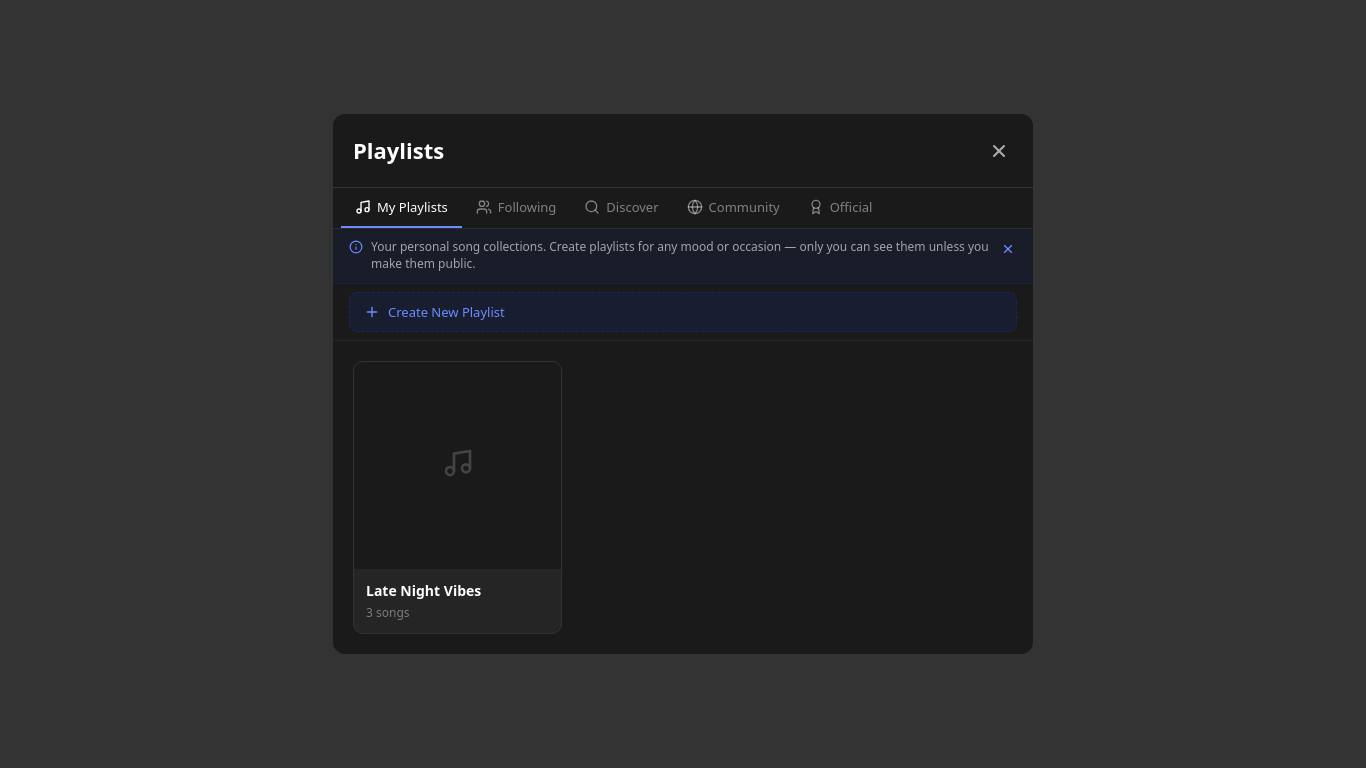
it: PlaylistManager › searches playlists from public tabs and displays the results
Click the button "Discover" at (621, 208), box [570, 188, 672, 228]
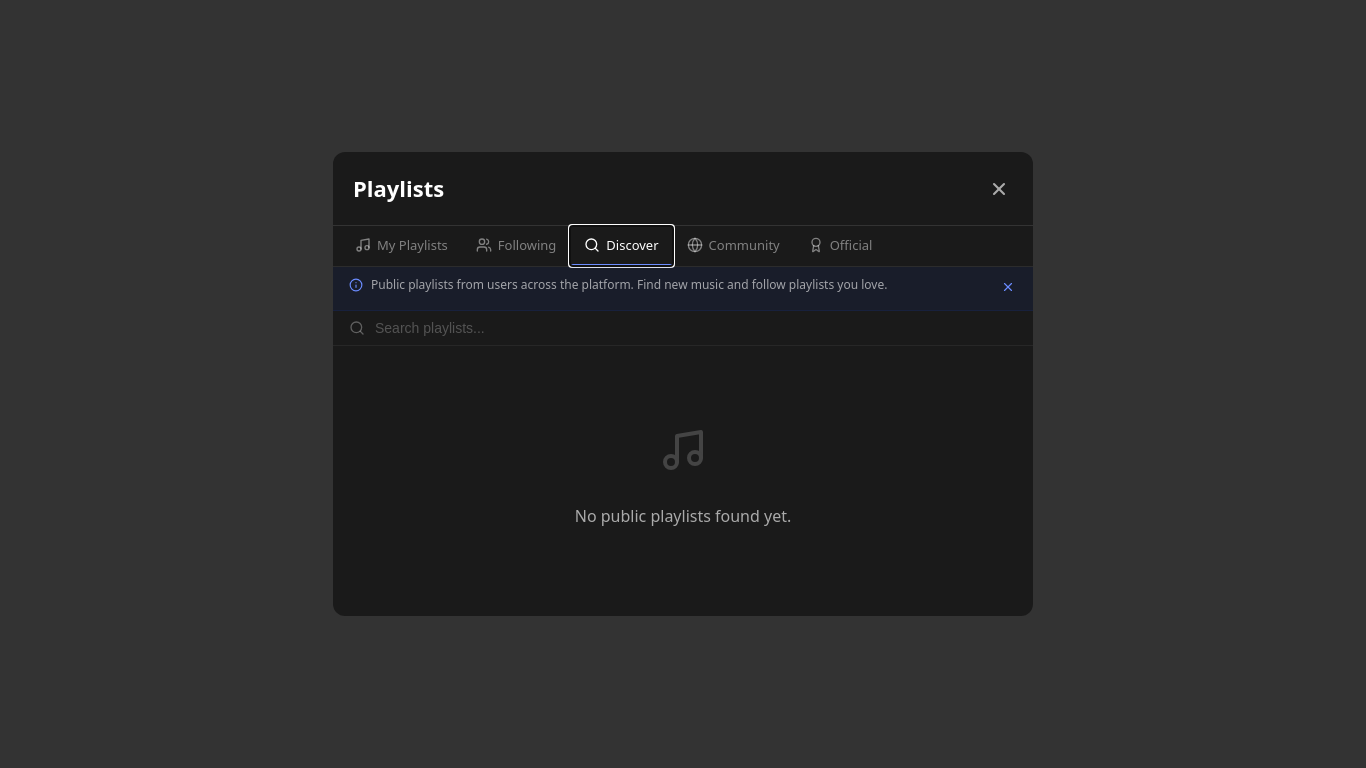
Type "jazz" into the field with placeholder "Search playlists..." at (695, 328), box [373, 319, 1017, 337]
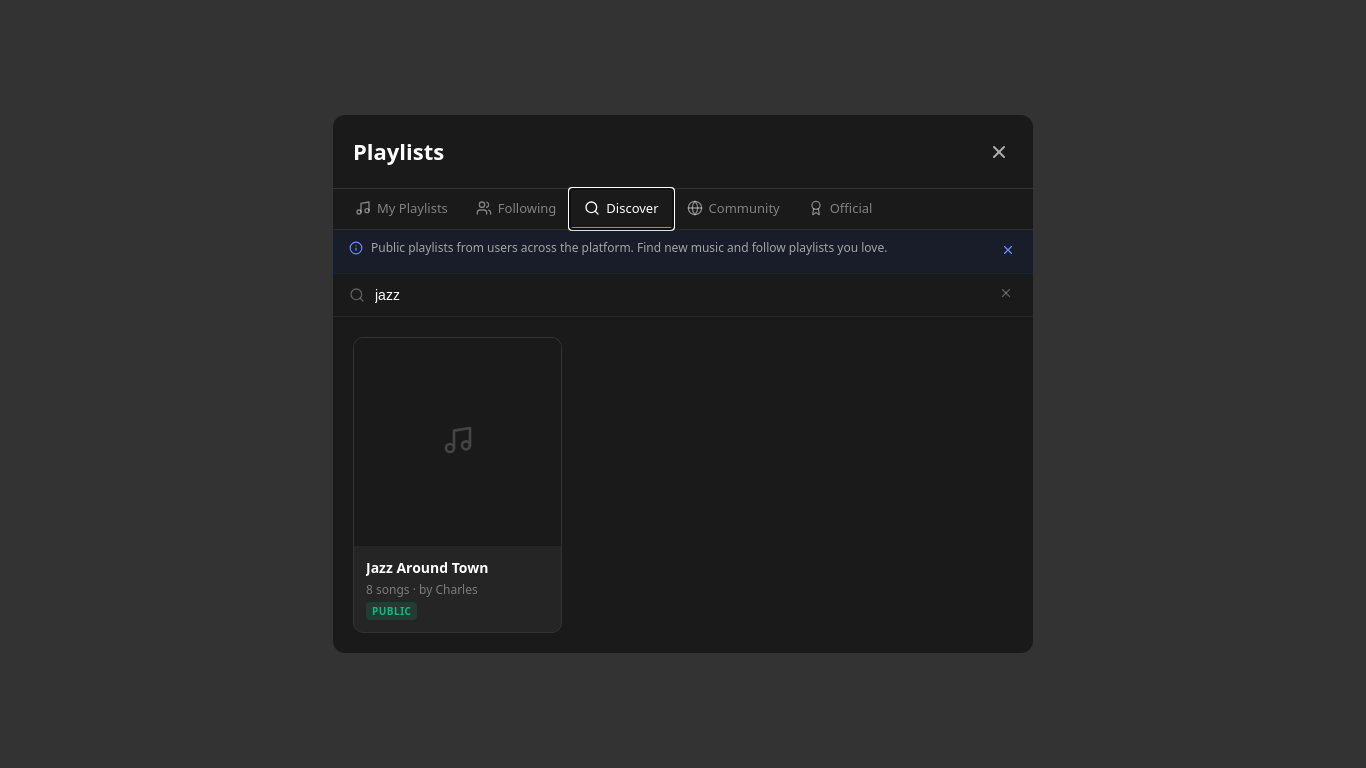
Expected: the text "Jazz Around Town" is shown, [366, 558, 488, 577]
Expected: the text "8 songs" is shown, [366, 581, 410, 598]
Expected: the text "· by Charles" is shown, [410, 581, 478, 598]
